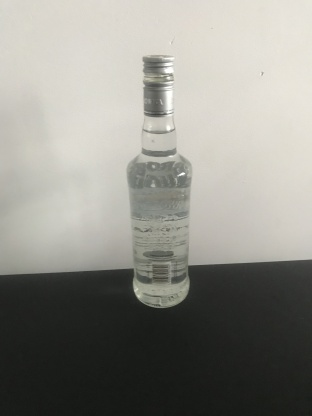nakretka: (140, 55, 175, 117)
